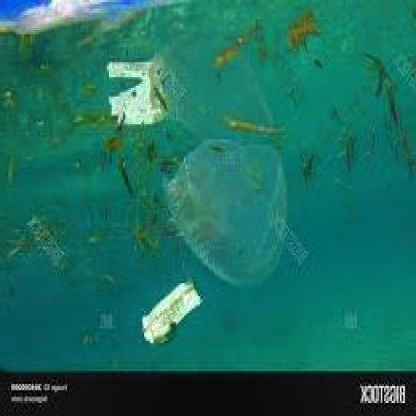misc: (96, 49, 174, 129), (130, 281, 208, 343)
pbag: (158, 131, 300, 283)
